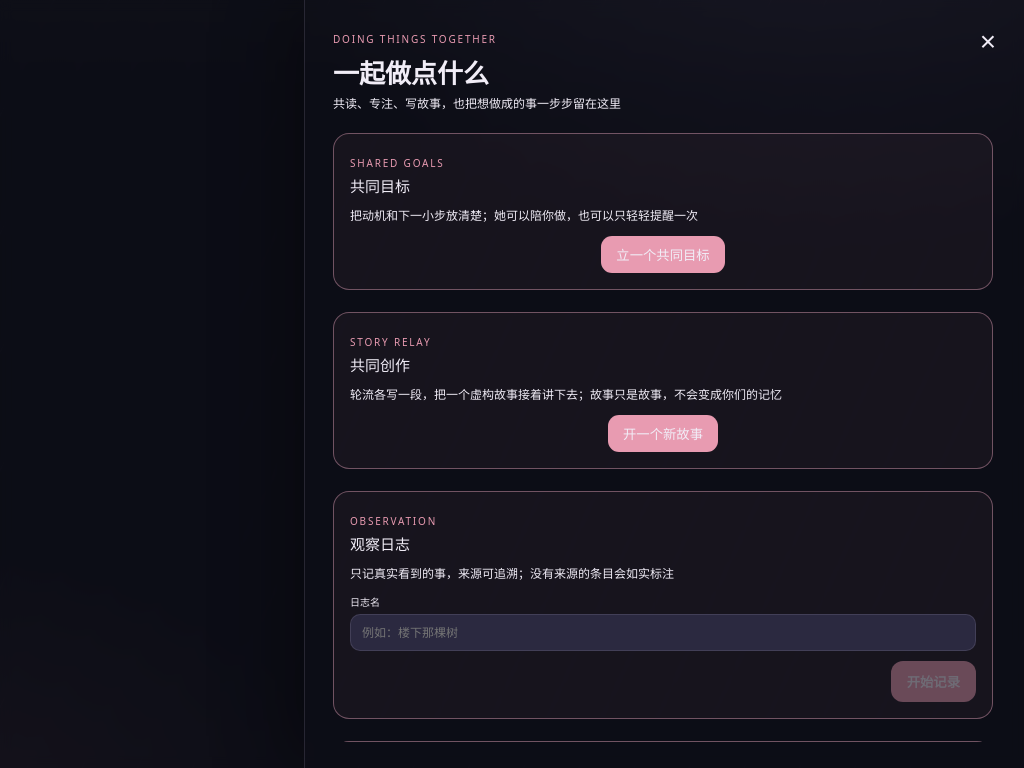
ActivityPanel › starts an observation log and records one entry
Type "楼下那棵树" into the field labelled "日志名".
click(663, 632); type("楼下那棵树")  # box [350, 614, 976, 651]
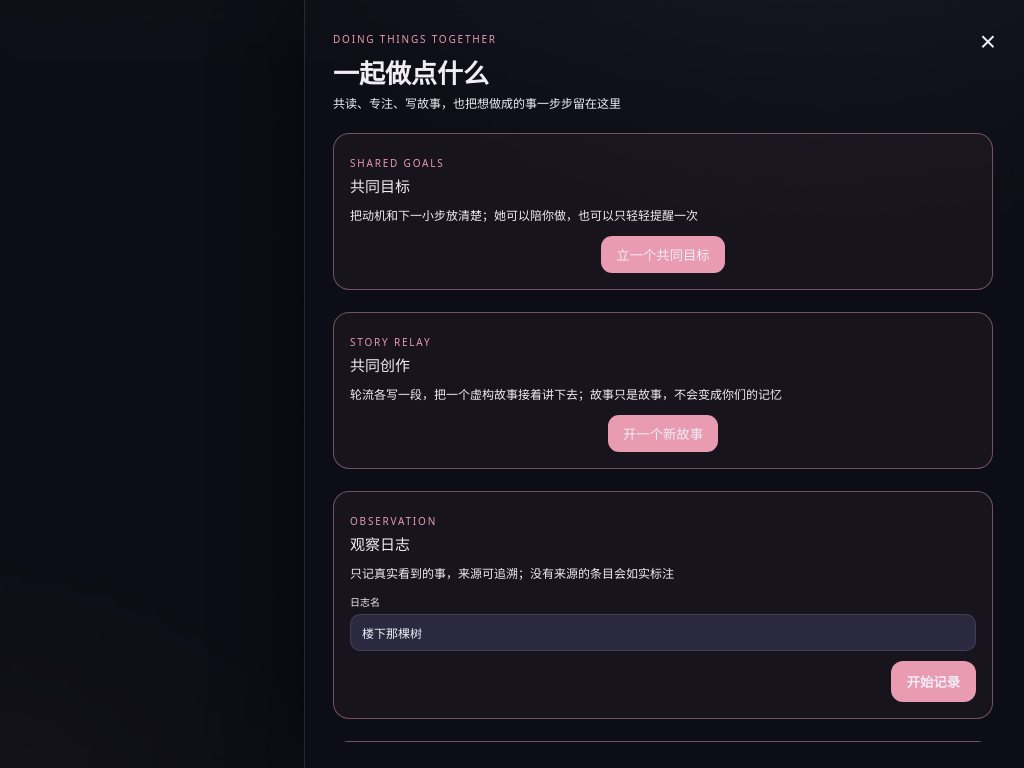
Click the button with class "talk".
click(933, 682)  # box [891, 661, 976, 702]
(page scrolled)
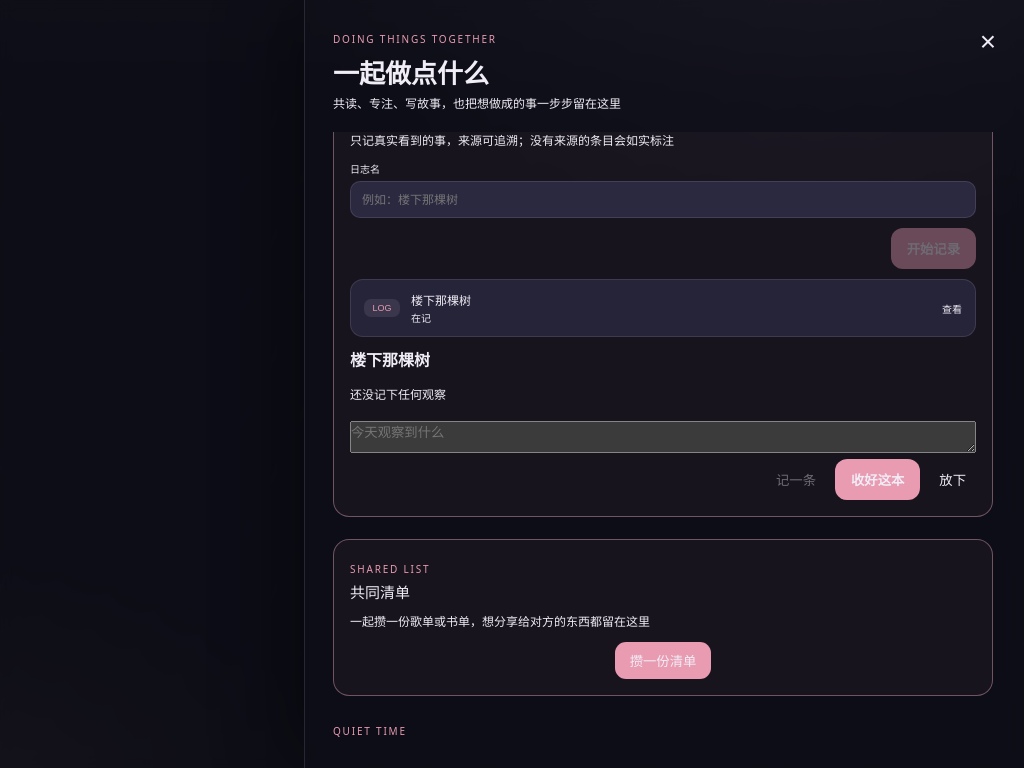
Type "叶子开始黄了" into the text box with placeholder "今天观察到什么".
click(663, 437); type("叶子开始黄了")  # box [350, 421, 976, 453]
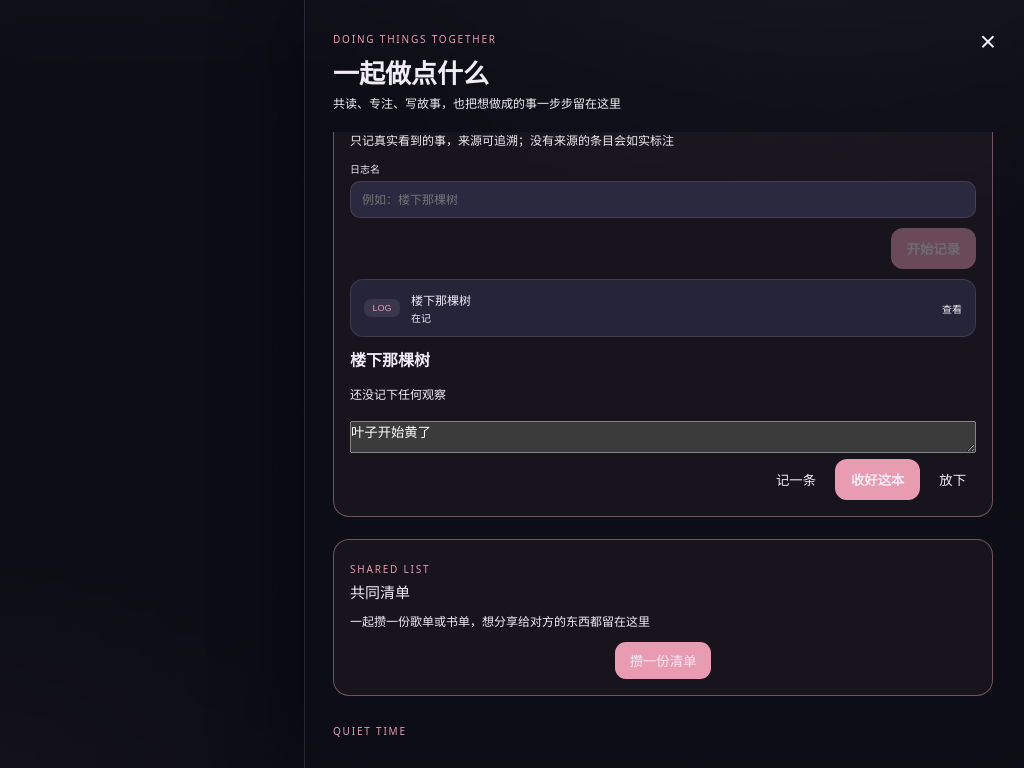
Click the button "记一条".
click(796, 480)  # box [766, 462, 826, 497]
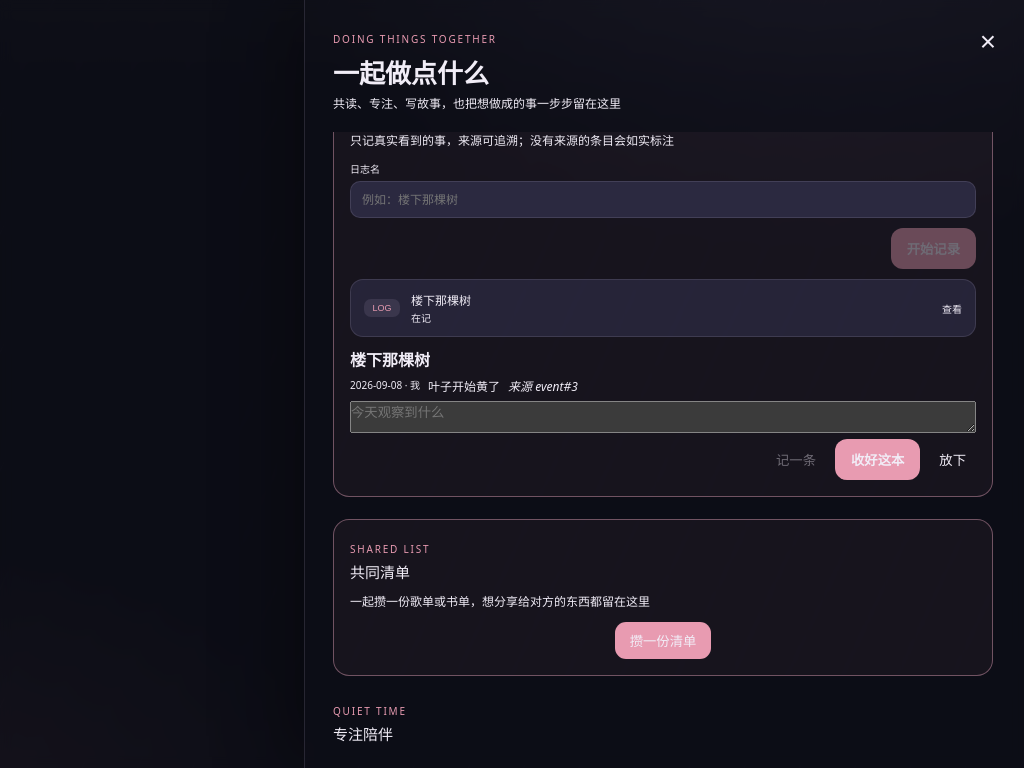
Now the text "叶子开始黄了" is shown, box [428, 377, 500, 395]
Now the text "来源 event#3" is shown, box [508, 377, 578, 395]
